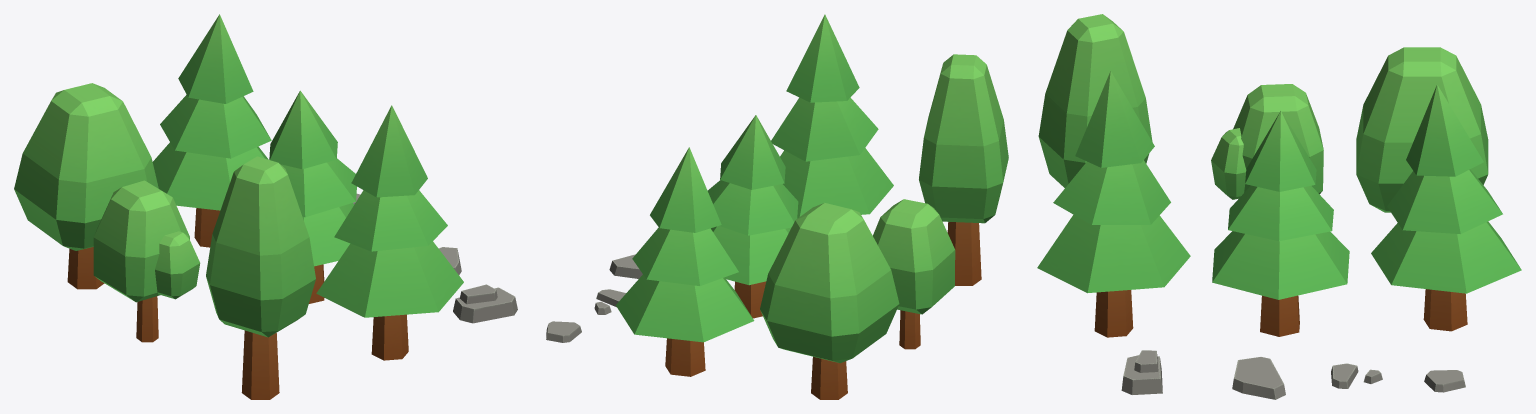
The model's file is tree stone.fbx.
The picture shows the model from 3 angles, left to right: view 1: azimuth 30°, elevation 25°; view 2: azimuth 150°, elevation 25°; view 3: azimuth 270°, elevation 25°; orthographic projection. The views are drawn at different scales.
Visible parts, largest first — view 1: tree3, tree4, tree6, tree1, tree5, tree2, stone1; view 2: tree6, tree1, tree4, tree3, tree2, tree5, stone4, stone2, stone3; view 3: tree3, tree1, tree2, tree6, tree4, tree5, stone2, stone1, stone3, stone4.
Boxes of the visible parts, bbox=[...] form: tree3: bbox=[316, 105, 463, 360]; tree4: bbox=[206, 156, 315, 399]; tree6: bbox=[14, 83, 158, 289]; tree1: bbox=[152, 14, 271, 247]; tree5: bbox=[93, 180, 200, 342]; tree2: bbox=[269, 90, 356, 303]; stone1: bbox=[453, 284, 517, 323]; tree6: bbox=[760, 203, 899, 399]; tree1: bbox=[616, 147, 754, 376]; tree4: bbox=[919, 54, 1008, 285]; tree3: bbox=[771, 14, 893, 218]; tree2: bbox=[707, 115, 798, 318]; tree5: bbox=[873, 199, 955, 349]; stone4: bbox=[546, 321, 581, 342]; stone2: bbox=[609, 254, 642, 278]; stone3: bbox=[594, 289, 625, 314]; tree3: bbox=[1037, 71, 1190, 337]; tree1: bbox=[1371, 84, 1521, 331]; tree2: bbox=[1212, 111, 1349, 336]; tree6: bbox=[1356, 47, 1488, 212]; tree4: bbox=[1038, 14, 1152, 187]; tree5: bbox=[1211, 84, 1323, 199]; stone2: bbox=[1232, 357, 1285, 399]; stone1: bbox=[1121, 350, 1162, 394]; stone3: bbox=[1331, 363, 1382, 388]; stone4: bbox=[1424, 370, 1465, 392].
Size of the model in its own units: 249 by 168 by 285.
